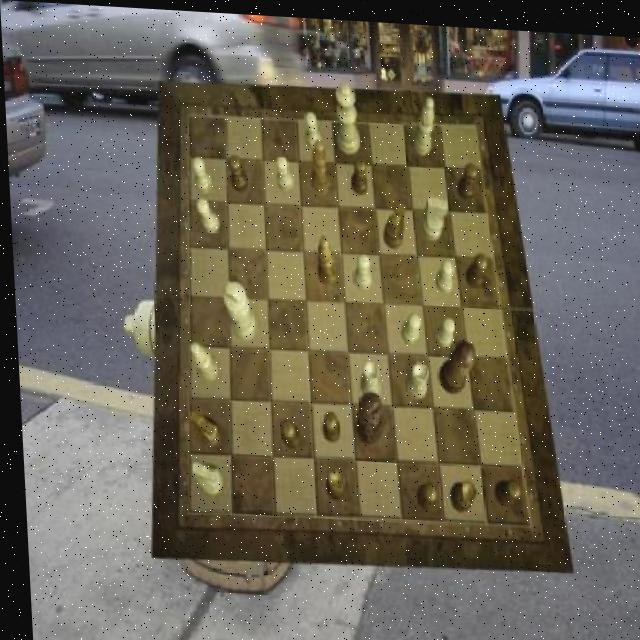bishop: (307, 136, 329, 191), (313, 233, 334, 283)
black-bishop: (350, 386, 379, 441)
black-king: (184, 407, 218, 446), (379, 198, 405, 246)
black-knight: (454, 156, 478, 196), (461, 247, 486, 283), (227, 152, 247, 190), (488, 473, 515, 501), (347, 153, 366, 191), (410, 478, 432, 507), (275, 417, 296, 446), (317, 408, 336, 439)
black-pawn: (432, 333, 474, 390)
black-queen: (443, 474, 472, 509), (318, 465, 343, 498)
black-rook: (408, 91, 435, 151), (186, 340, 215, 379)
white-bishop: (219, 279, 255, 339)
white-king: (418, 191, 447, 236), (186, 460, 218, 494)
white-knight: (193, 196, 217, 231), (430, 311, 453, 344), (191, 153, 210, 192), (396, 309, 418, 342), (350, 250, 369, 287), (273, 152, 292, 189), (303, 108, 321, 147), (432, 252, 452, 287)
white-pawn: (333, 78, 359, 150)
white-queen: (399, 357, 425, 395), (354, 356, 377, 397)
